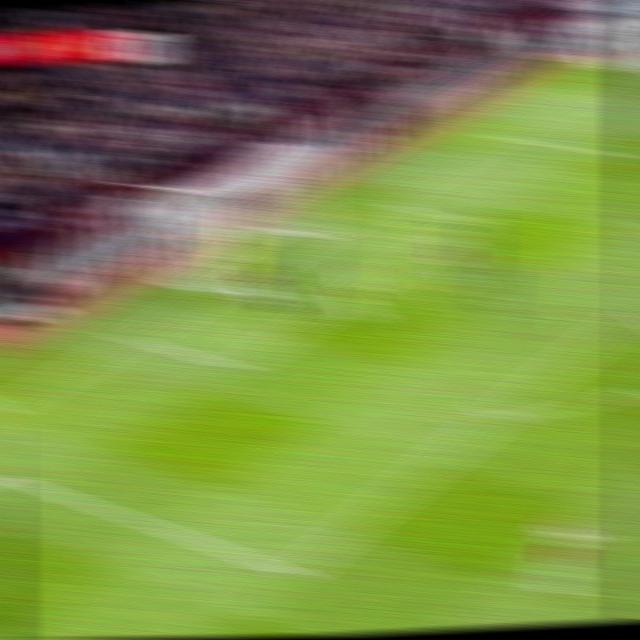bigarea_bottom_inner: (271, 555, 317, 593)
bigarea_top_outter: (480, 123, 517, 143)
bottom_arc_area_intersection: (479, 395, 521, 431)
corner: (600, 60, 635, 73)
smallarea_bottom_inner: (216, 350, 255, 382)
smallarea_bottom_outter: (112, 323, 154, 352)
smallarea_top_inner: (457, 209, 492, 231)
smallarea_top_outter: (360, 191, 398, 213)
